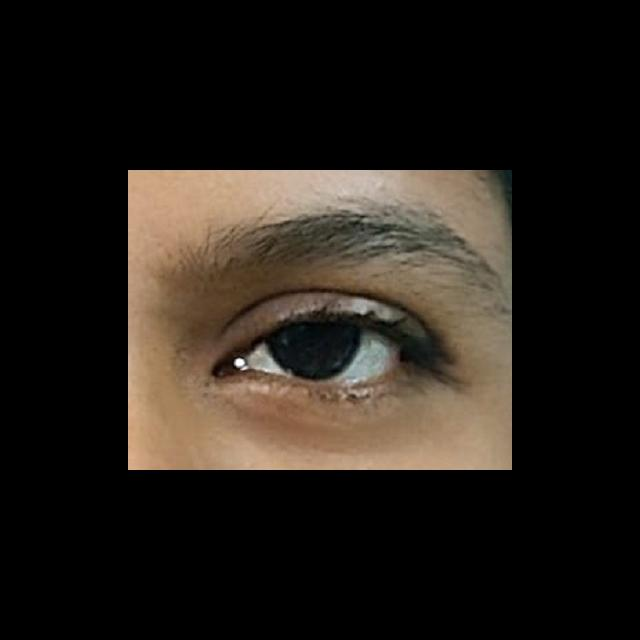eye: (244, 318, 401, 385)
iris: (265, 322, 364, 380)
